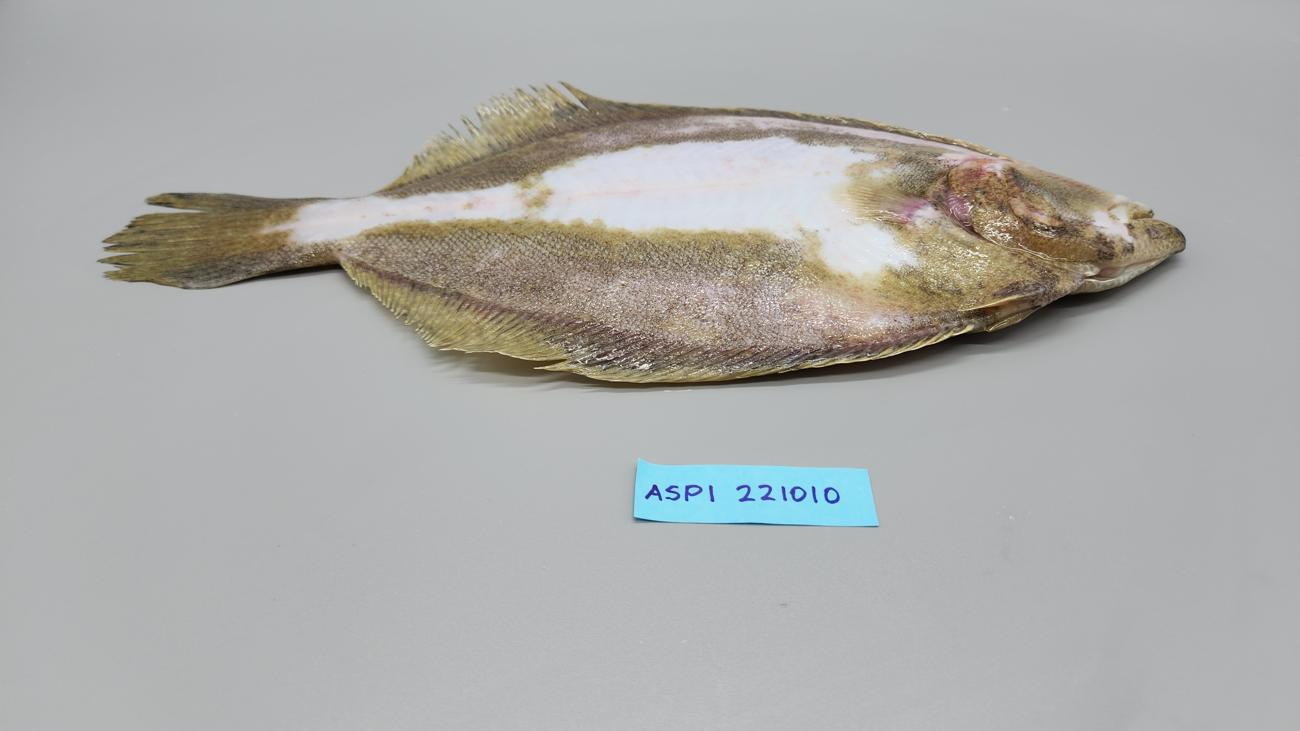SPDYH: (231, 227, 955, 351)
SPOUY: (90, 75, 1190, 395)
